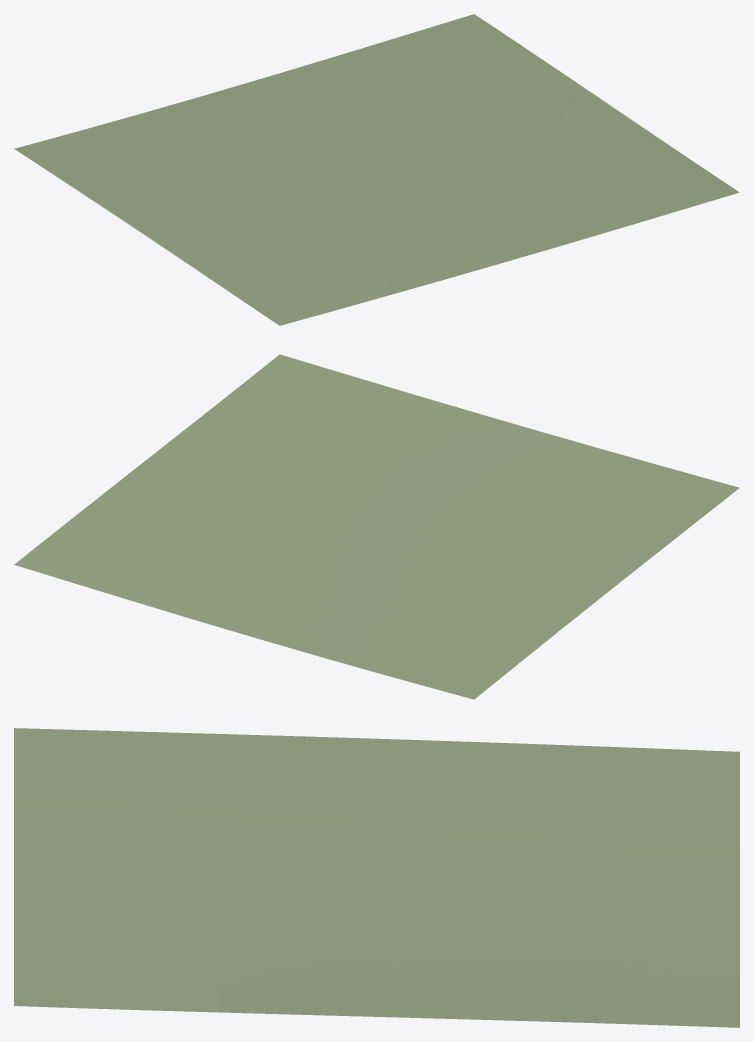
File: expanse-5-22.glb
3 renders of one model, top to bottom at view 1: azimuth 30°, elevation 25°; view 2: azimuth 150°, elevation 25°; view 3: azimuth 270°, elevation 25°, orthographic. The views are drawn at different scales.
Visible parts, largest first — view 1: expanse-5-22; view 2: expanse-5-22; view 3: expanse-5-22.
Part boxes in pixels (x1=…): expanse-5-22: x1=14, y1=14, x2=739, y2=325; expanse-5-22: x1=14, y1=354, x2=739, y2=699; expanse-5-22: x1=14, y1=728, x2=739, y2=1027.
Bounding box in the file's own units: 256 × 20.47 × 256.
